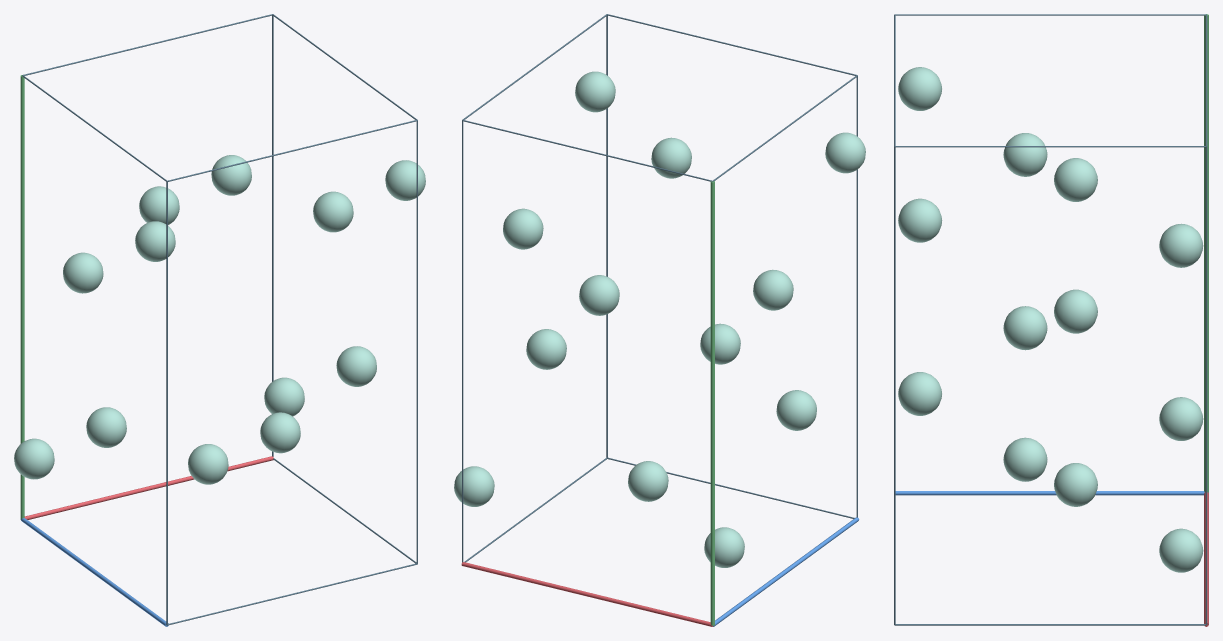
The model's file is nguyen-to-ga.glb.
The picture shows the model from 3 angles, left to right: view 1: azimuth 30°, elevation 25°; view 2: azimuth 150°, elevation 25°; view 3: azimuth 270°, elevation 25°; orthographic projection. The views are drawn at different scales.
Visible parts, largest first — view 1: Ga · Ga · 1 (×12), Ô mạng và các trục a, b, c; view 2: Ga · Ga · 1 (×12), Ô mạng và các trục a, b, c; view 3: Ga · Ga · 1 (×12), Ô mạng và các trục a, b, c.
Boxes of the visible parts, <box> form: Ga · Ga · 1 (×12): <box>14,155,425,484</box>; Ô mạng và các trục a, b, c: <box>20,14,417,626</box>; Ga · Ga · 1 (×12): <box>454,71,865,567</box>; Ô mạng và các trục a, b, c: <box>461,14,859,626</box>; Ga · Ga · 1 (×12): <box>898,67,1203,572</box>; Ô mạng và các trục a, b, c: <box>894,14,1208,626</box>.
Bounding box in the file's own units: 5.16 × 7.71 × 4.57.
